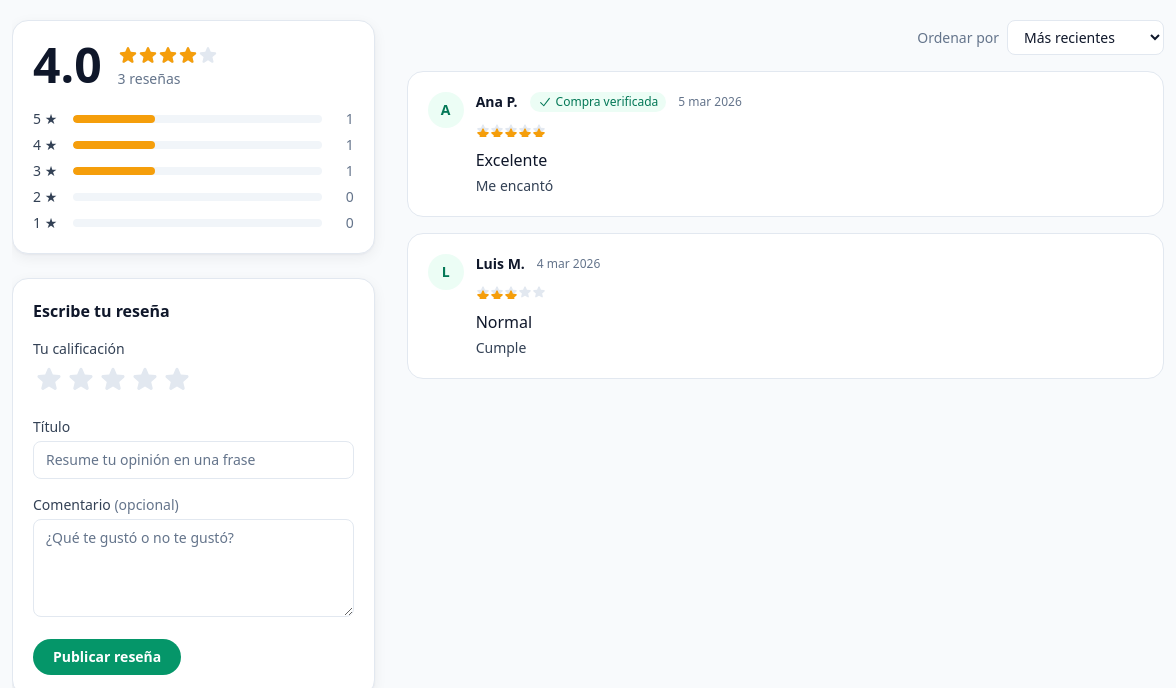
Test case: ReviewsSection — escribir, editar y eliminar › si el servidor rechaza (ej. 409), muestra su mensaje y conserva el formulario
This screenshot has width=1176, height=688.
Step 1. Click the radio button named "5 estrellas" → (177, 379), box [161,363,193,395]
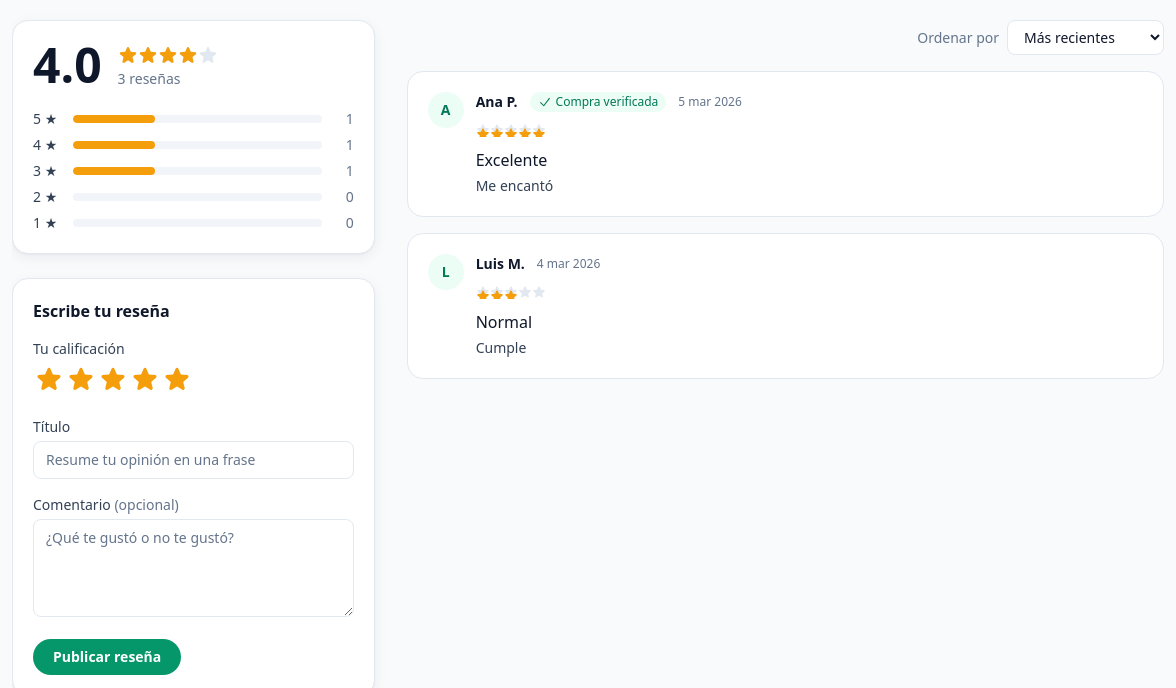
Step 2. Type "Otra vez" into the field with id "review-title" → (193, 460), box [33,441,354,479]
(page scrolled)
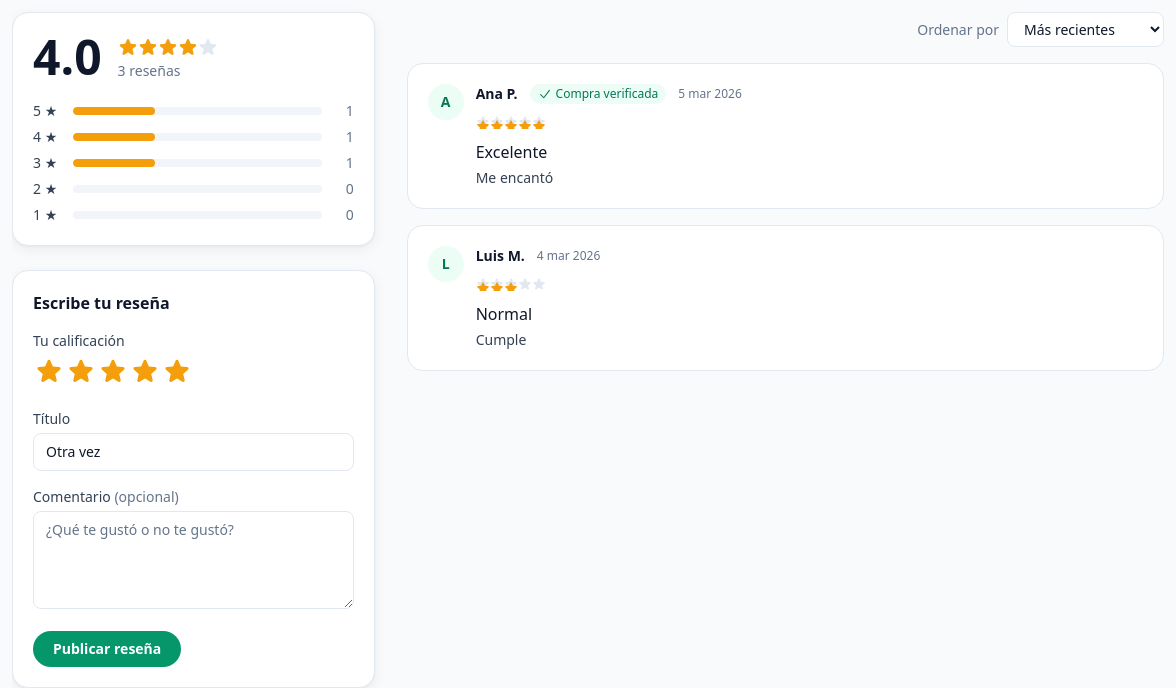
Step 3. Submit the form with test id "review-form", box [12,270,375,687]
(page scrolled)
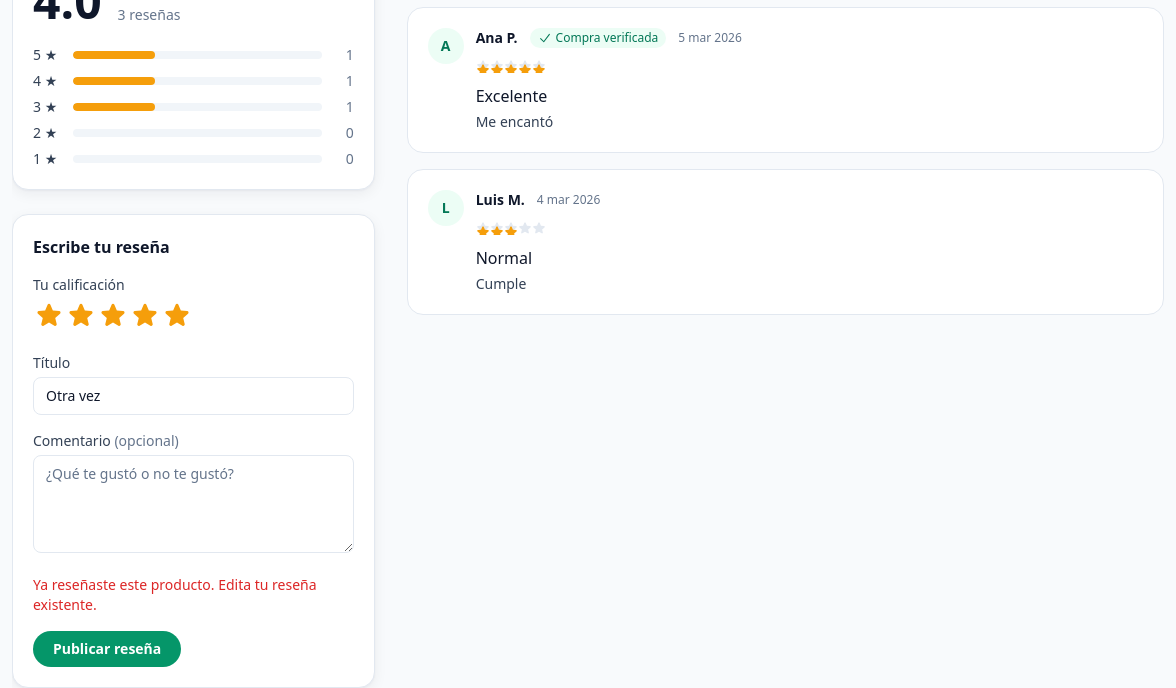
Check: the form with test id "review-form" is shown, box [12,214,375,687]
Check: the text "Ya reseñaste este producto" is shown, box [33,575,317,614]
